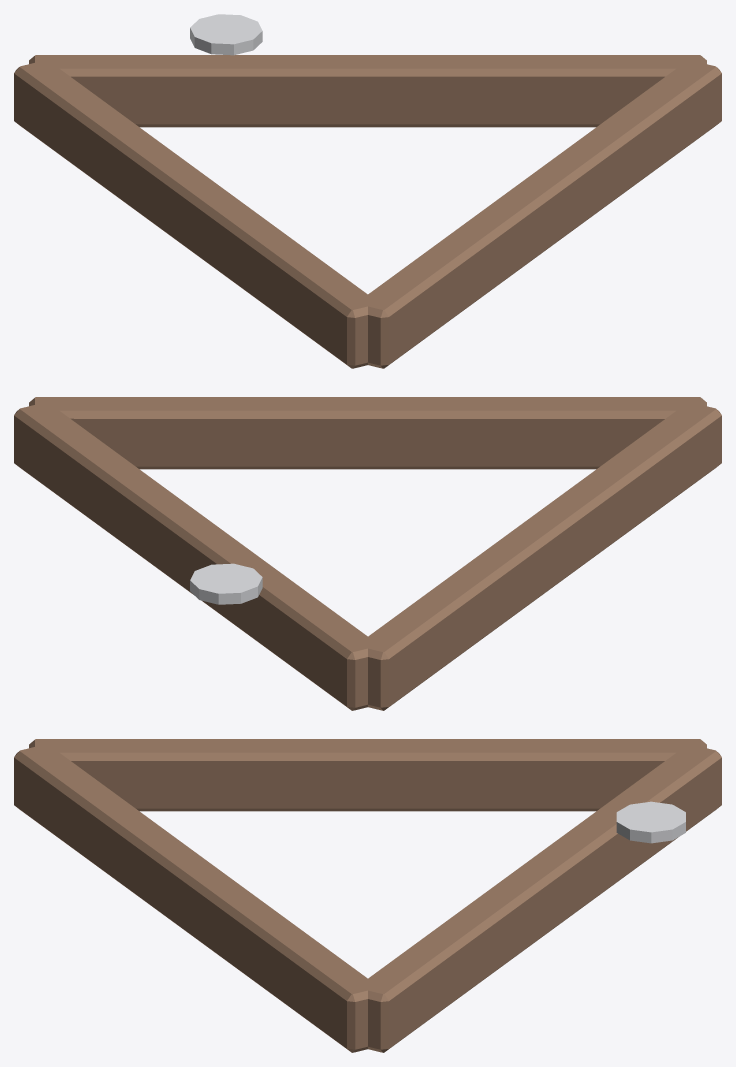
File: bowling-alley-and-pool-hall-triangle-rack-ba249df8__33856.glb
The picture shows the model from 3 angles, top to bottom: view 1: azimuth 30°, elevation 25°; view 2: azimuth 150°, elevation 25°; view 3: azimuth 270°, elevation 25°; orthographic projection.
Parts seen in each view (by area): view 1: triangle-rack; view 2: triangle-rack; view 3: triangle-rack.
Boxes of the visible parts, x1=… form: triangle-rack: x1=14, y1=14, x2=721, y2=368; triangle-rack: x1=14, y1=397, x2=721, y2=710; triangle-rack: x1=14, y1=739, x2=721, y2=1052.
Bounding box in the file's own units: 0.304 × 0.038 × 0.3498.
